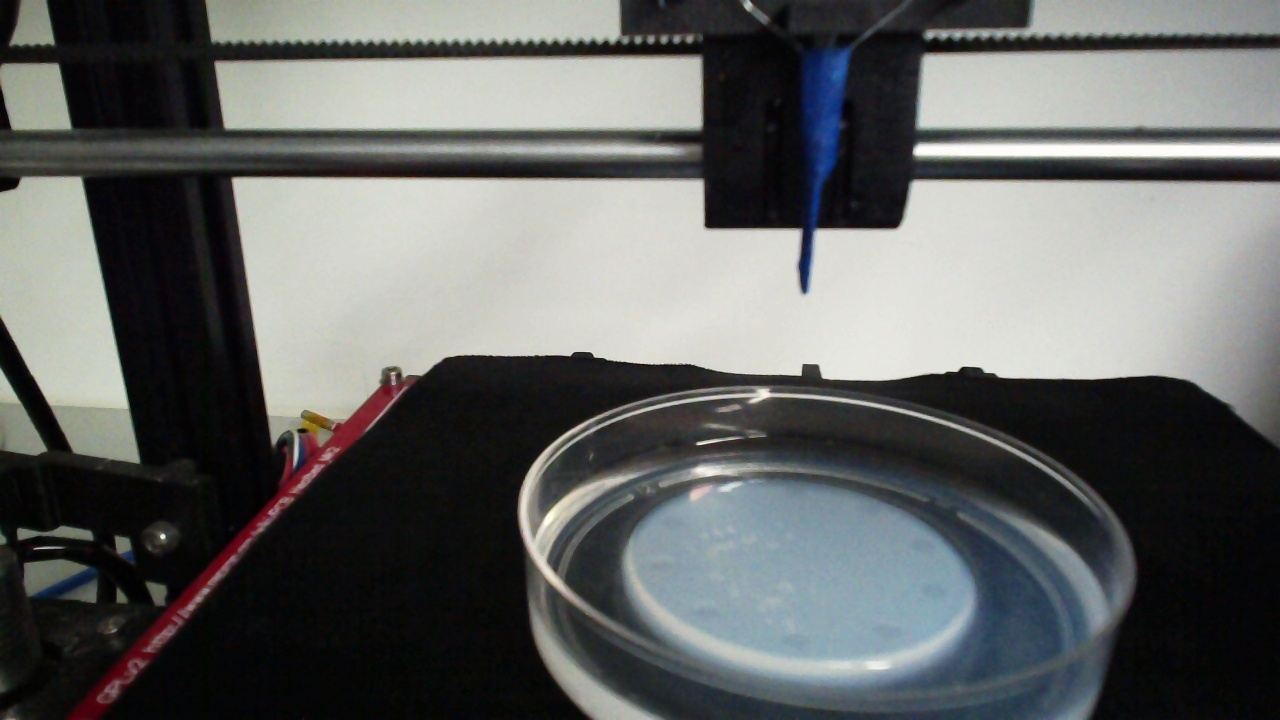groove: (691, 604, 723, 624), (648, 556, 678, 577), (781, 631, 813, 650), (872, 622, 904, 640), (920, 581, 948, 601), (853, 499, 882, 518), (910, 538, 937, 557), (780, 480, 808, 498), (660, 516, 686, 532)
needle: (799, 52, 849, 292)
